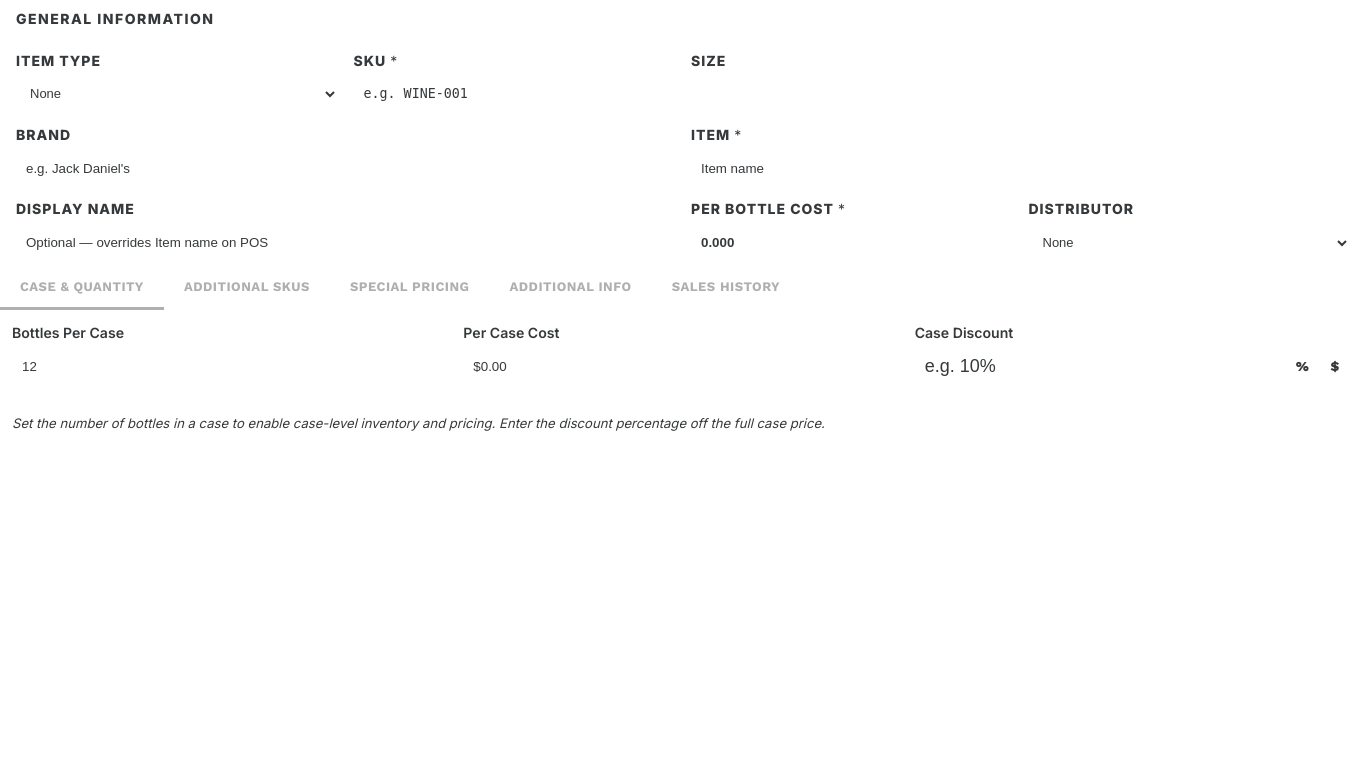
ItemForm › pulls a cloud-only SKU into the form
The width and height of the screenshot is (1366, 768).
In the field named "SKU": (514, 94) top-left (354, 76), bottom-right (675, 112), type "SKU-CLOUD"
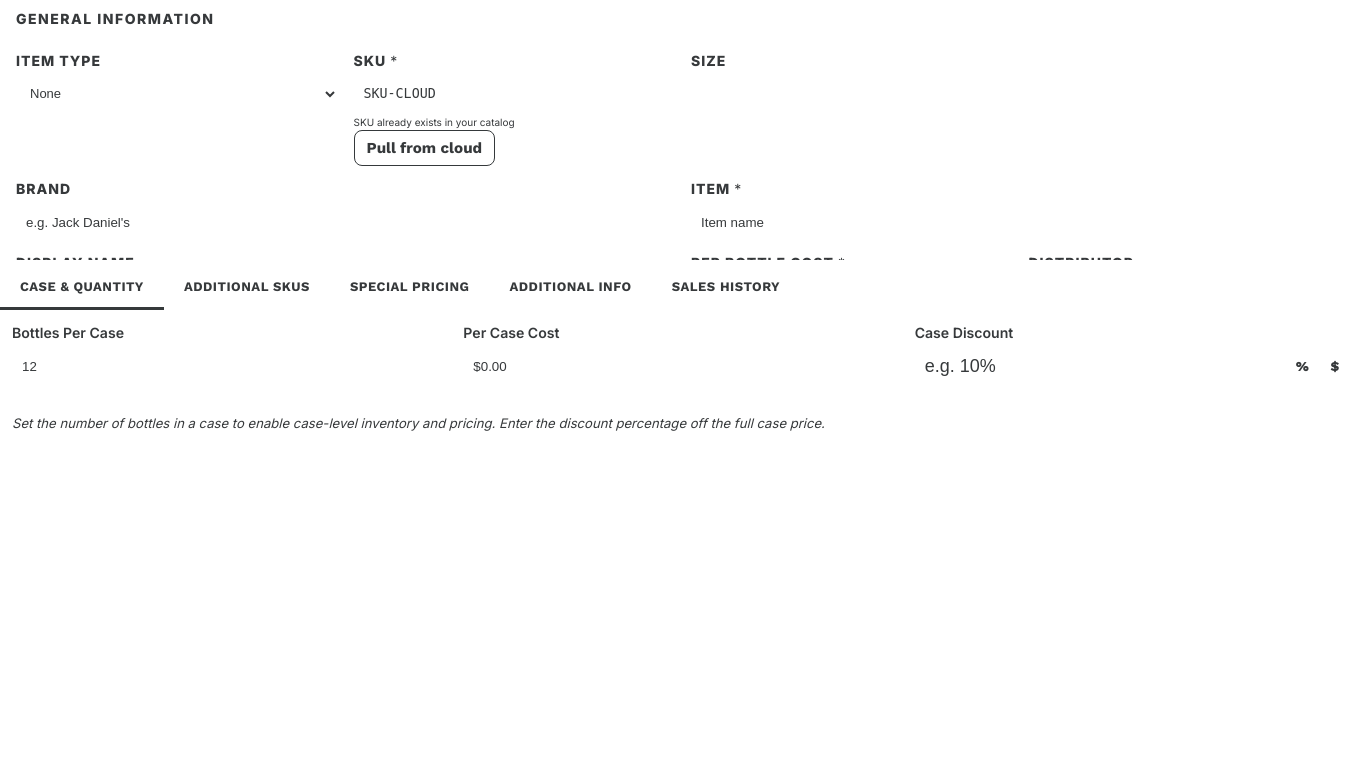
Check: the button "Pull from cloud" is shown
Click the button "Pull from cloud": (424, 148) top-left (354, 130), bottom-right (495, 166)
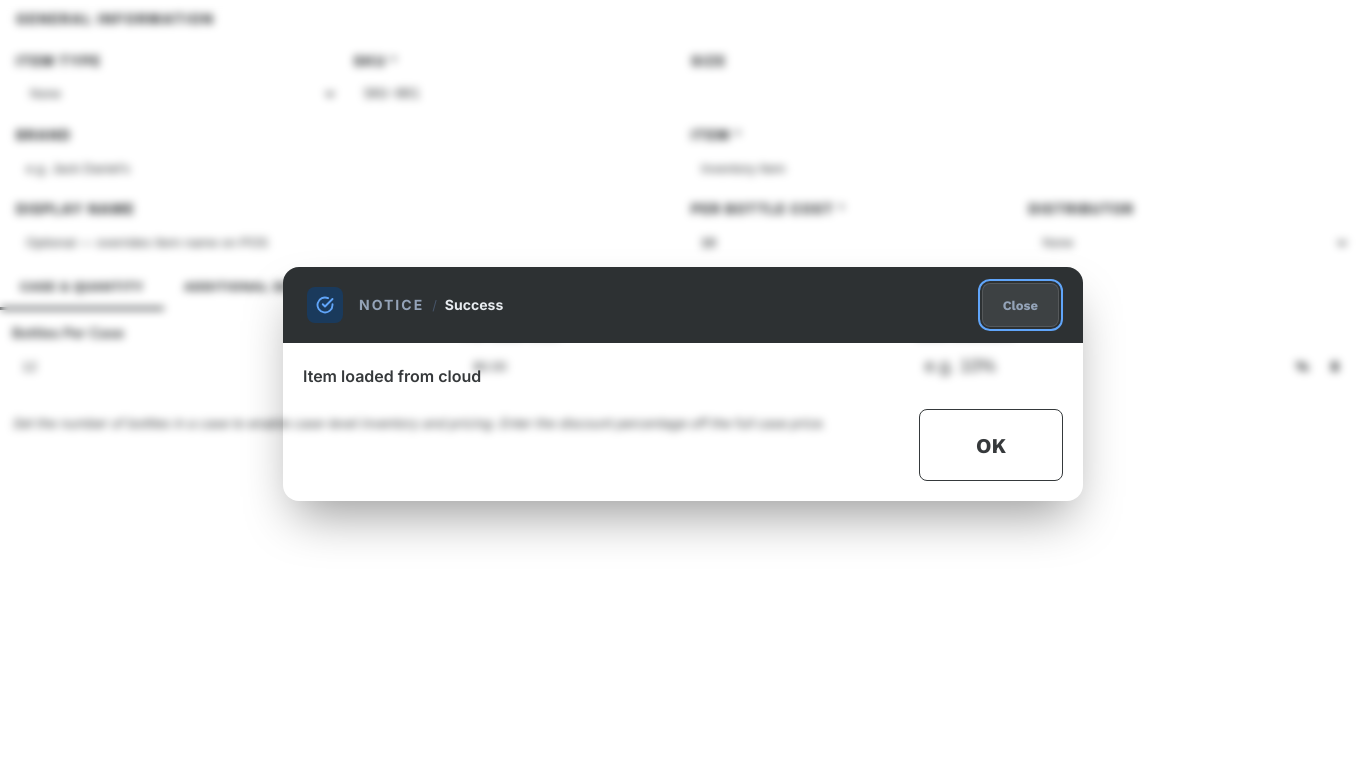
Check: the field showing "Inventory Item" is shown, box top-left (691, 150), bottom-right (1350, 186)
Check: the text "Item loaded from cloud" is shown, box top-left (303, 366), bottom-right (481, 386)
